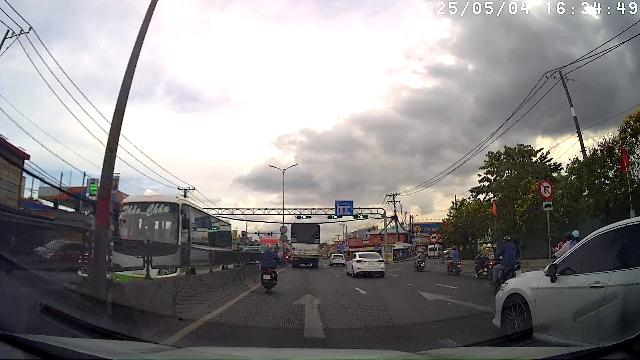123b-cam-re-phai: (538, 180, 554, 199)
